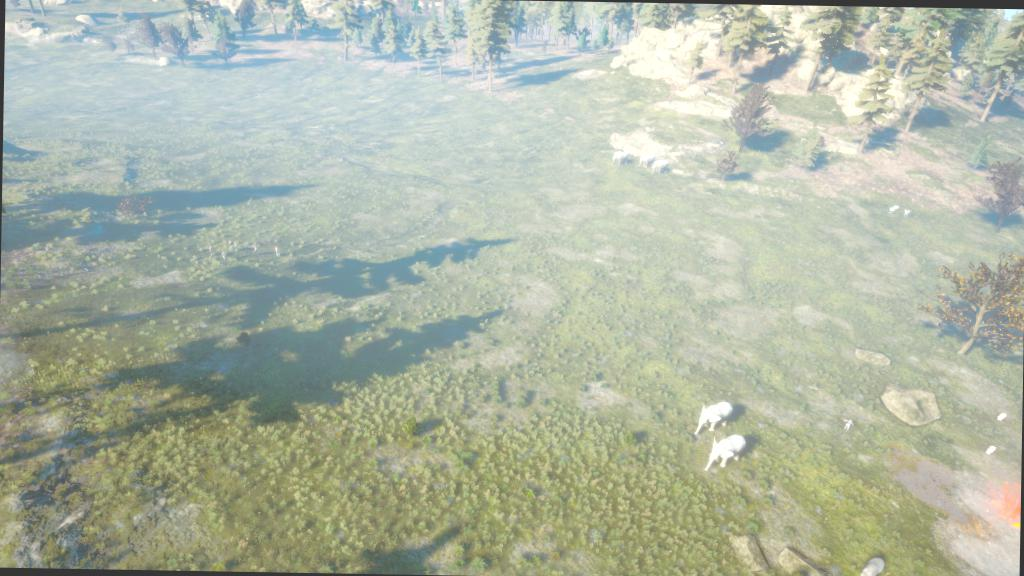Fire: (980, 476, 1020, 531)
elephant: (702, 432, 748, 473), (692, 397, 736, 438), (649, 158, 670, 178), (636, 152, 655, 171), (610, 150, 630, 167)
hippopotamus: (857, 548, 888, 575)
human: (840, 416, 856, 433)
pig: (982, 443, 998, 458), (995, 410, 1009, 424)
